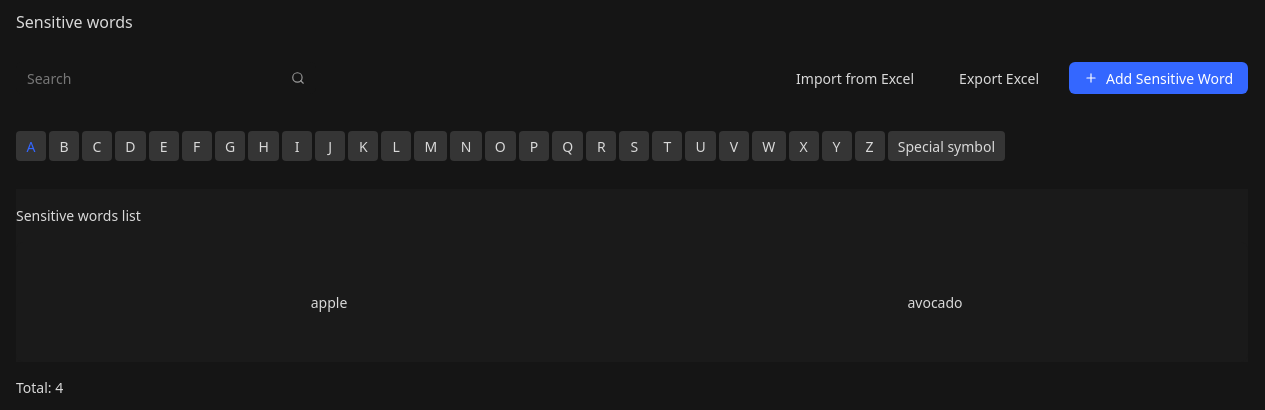
SensitiveWordsPage › marks the open letter tab with aria-selected and keeps one Tab stop
The image size is (1265, 410).
Check: the list item "apple" is shown, box [311,292,347,312]
Click the tab "B" at (64, 146), box [49,131,79,161]
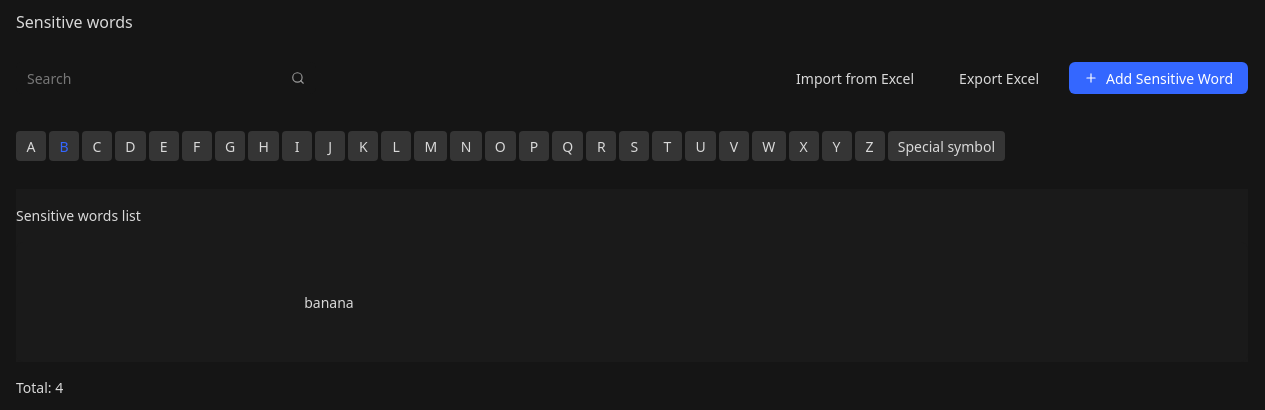
Check: the list item "banana" is shown, box [304,292,354,312]
Check: the text "apple" is gone
